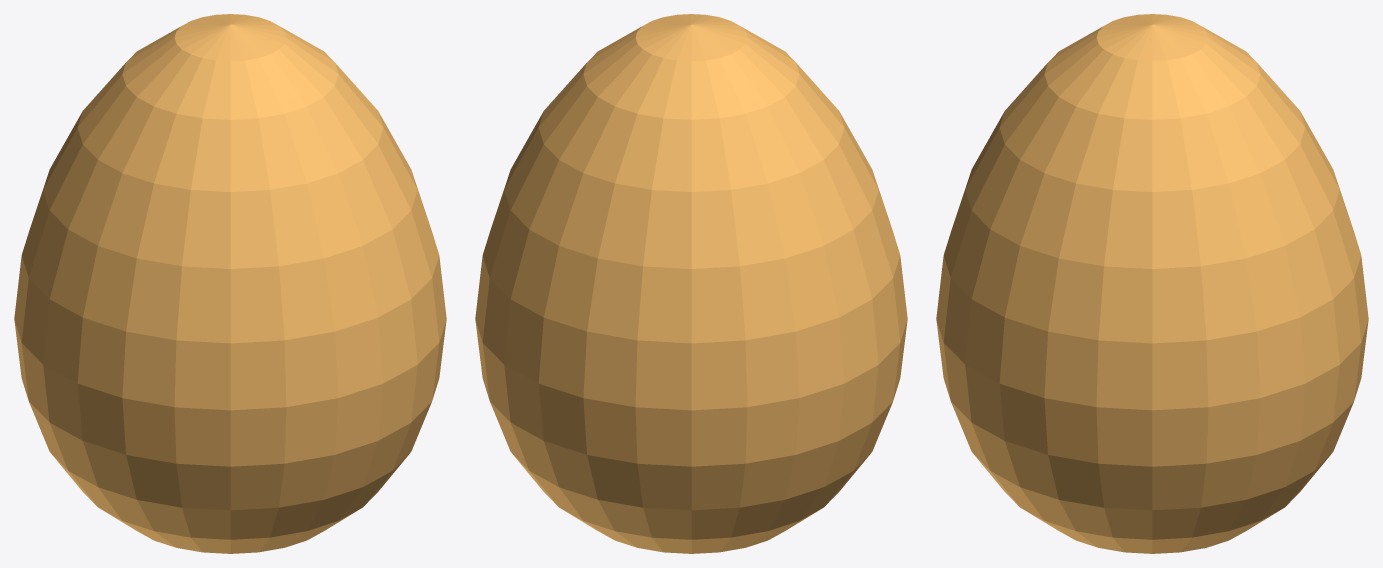
The picture shows the model from 3 angles, left to right: view 1: azimuth 30°, elevation 25°; view 2: azimuth 150°, elevation 25°; view 3: azimuth 270°, elevation 25°; orthographic projection.
Visible parts, largest first — view 1: Uncracked_Egg_1; view 2: Uncracked_Egg_1; view 3: Uncracked_Egg_1.
Boxes of the visible parts, left/top/right/bottom form: Uncracked_Egg_1: left=14, top=14, right=446, bottom=553; Uncracked_Egg_1: left=475, top=14, right=907, bottom=553; Uncracked_Egg_1: left=936, top=14, right=1368, bottom=553.
Bounding box in the file's own units: 92.22 × 120 × 92.22.
